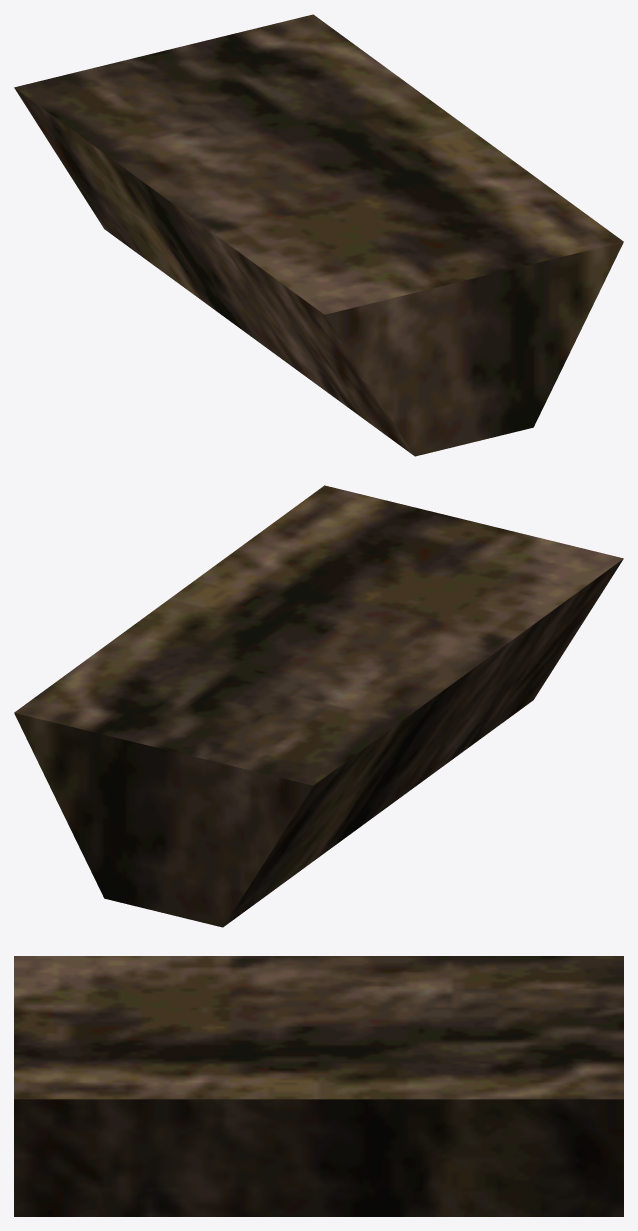
File: Bridge.glb
3 views of the same model, one above another, from view 1: azimuth 30°, elevation 25°; view 2: azimuth 150°, elevation 25°; view 3: azimuth 270°, elevation 25° (orthographic).
Visible parts, largest first — view 1: Bridge; view 2: Bridge; view 3: Bridge.
Part boxes in pixels (box(x1,y1,x2,y2)): Bridge: box(14, 14, 623, 456); Bridge: box(14, 485, 623, 927); Bridge: box(14, 956, 623, 1216).
Bounding box in the file's own units: 61.2 × 32 × 110.
Materials: 1 (1 with a texture image).
